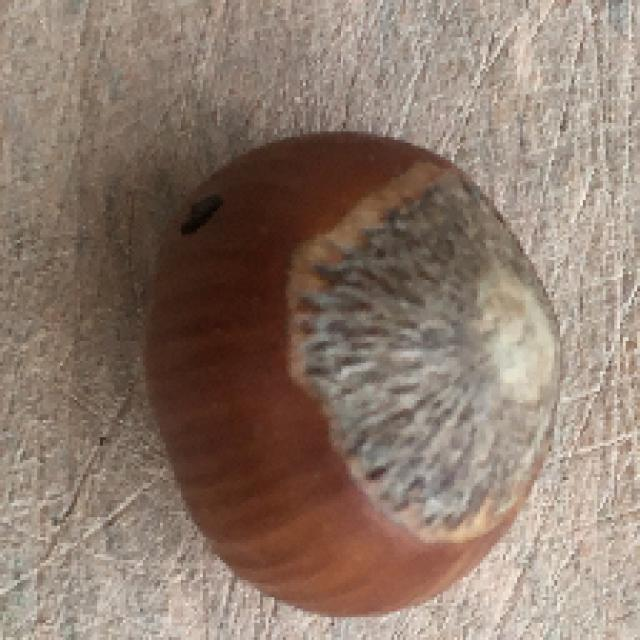damagedHazelnut: (136, 132, 563, 622)
